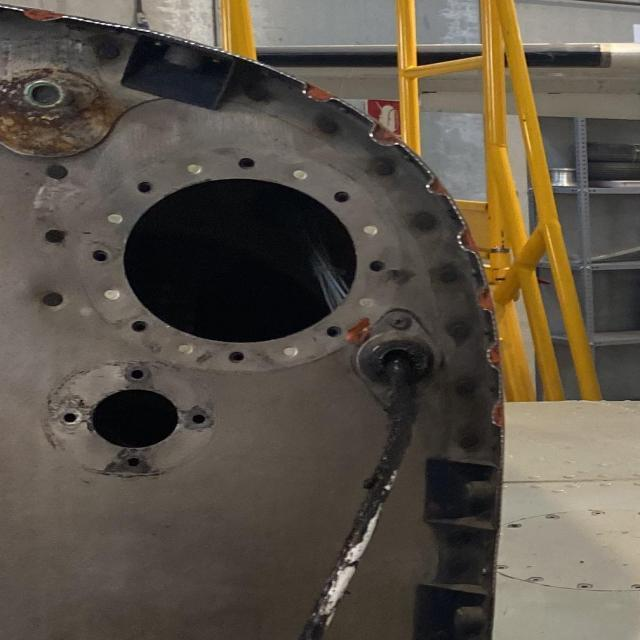Missing-head: (637, 512, 640, 516)
